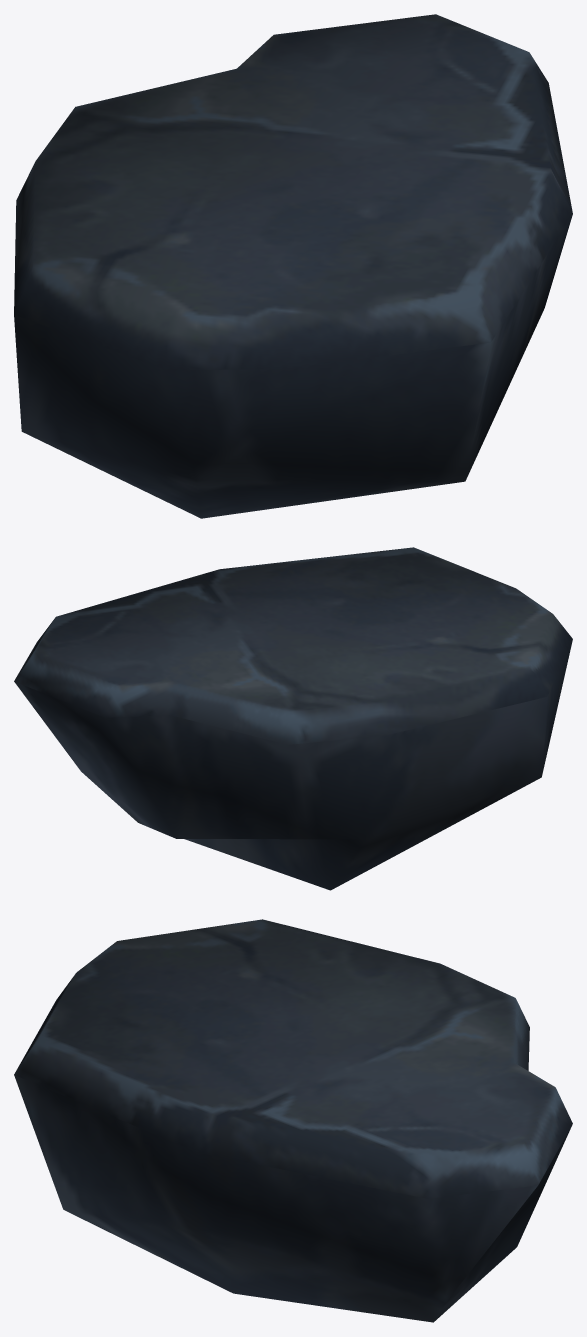
File: sn_jiguan_stone_003.FBX
The picture shows the model from 3 angles, top to bottom: view 1: azimuth 30°, elevation 25°; view 2: azimuth 150°, elevation 25°; view 3: azimuth 270°, elevation 25°; orthographic projection. The views are drawn at different scales.
Parts seen in each view (by area): view 1: sn_jiguan_stone_003; view 2: sn_jiguan_stone_003; view 3: sn_jiguan_stone_003.
Part boxes in pixels (bbox=[...]): sn_jiguan_stone_003: bbox=[14, 14, 572, 518]; sn_jiguan_stone_003: bbox=[14, 547, 572, 890]; sn_jiguan_stone_003: bbox=[14, 919, 572, 1322].
Size of the model in its own units: 277 by 127 by 255.
